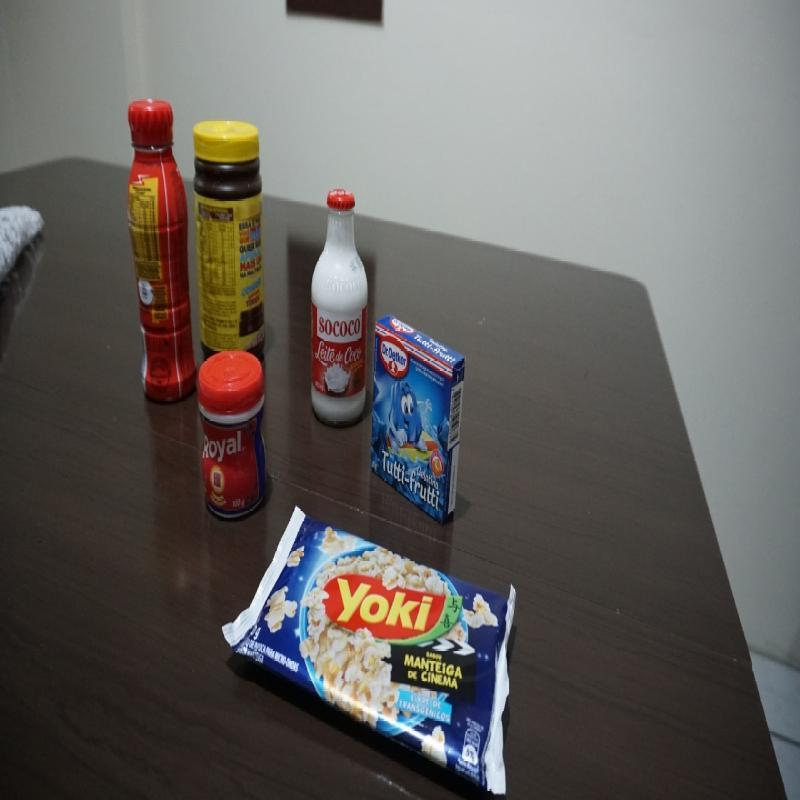Chocolate Milk: (126, 97, 199, 407)
Chocolate Powder: (192, 118, 268, 366)
Coconut Milk: (309, 187, 368, 429)
Gelatine: (370, 312, 467, 526)
Popcorn: (222, 503, 520, 798)
Yeast: (197, 351, 270, 519)
